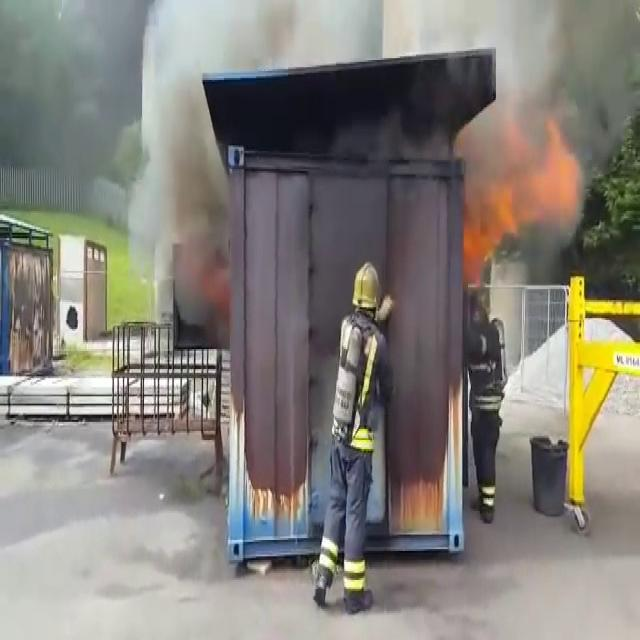Smoke: (138, 0, 640, 60), (136, 68, 217, 248), (518, 54, 608, 180)
